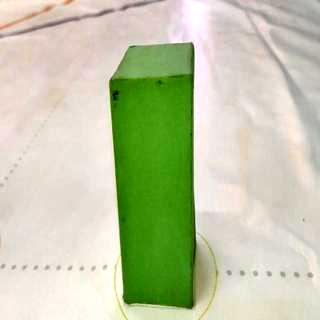greenbox: (108, 41, 195, 306)
